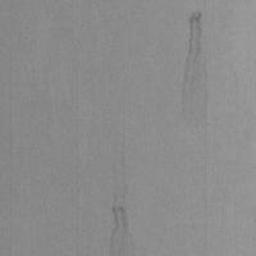Water spot: (110, 122, 128, 256), (183, 11, 205, 96)
